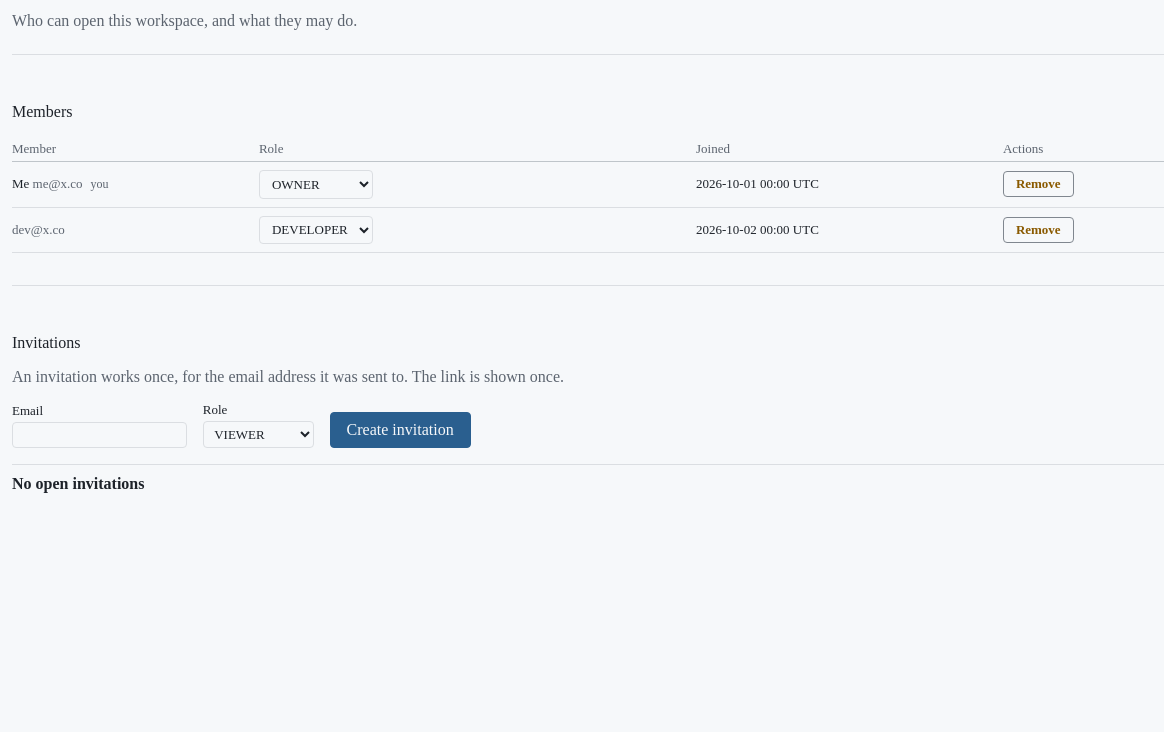
Test: Members › shows API validation per field
Type "a@b.co" into the field labelled "Email" at (99, 435), box [12,422,187,448]
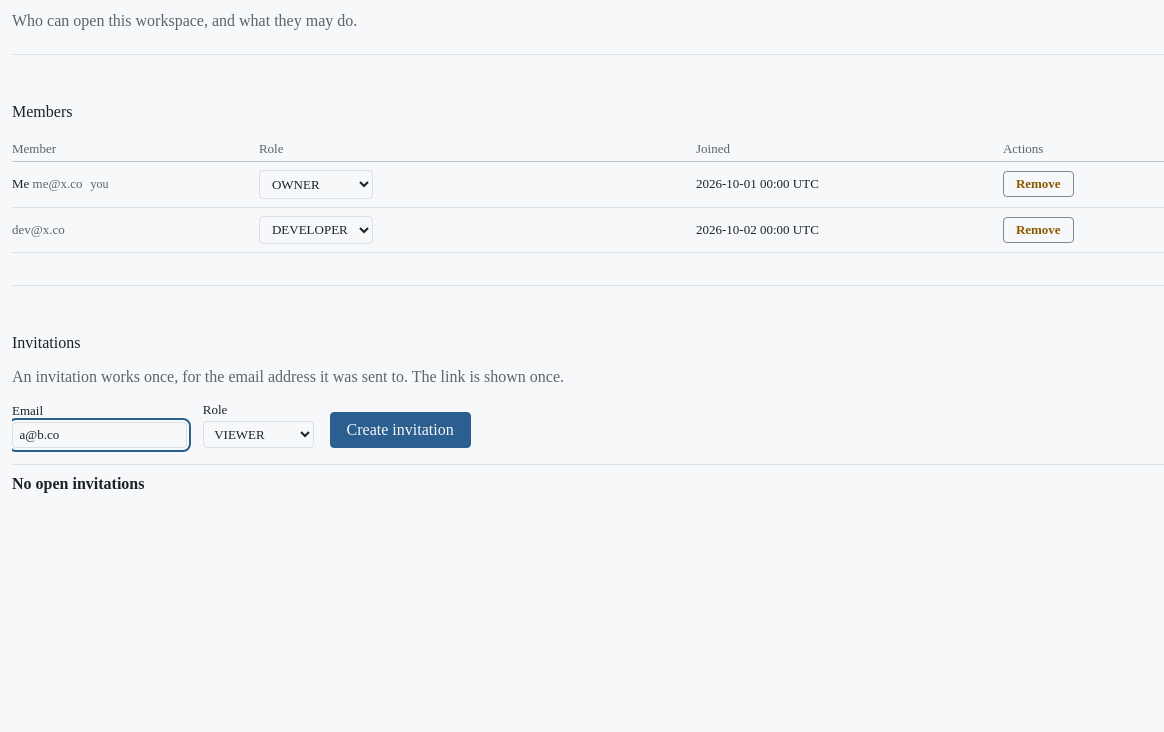
Click the button "Create invitation" at (400, 430), box [330,412,471,448]
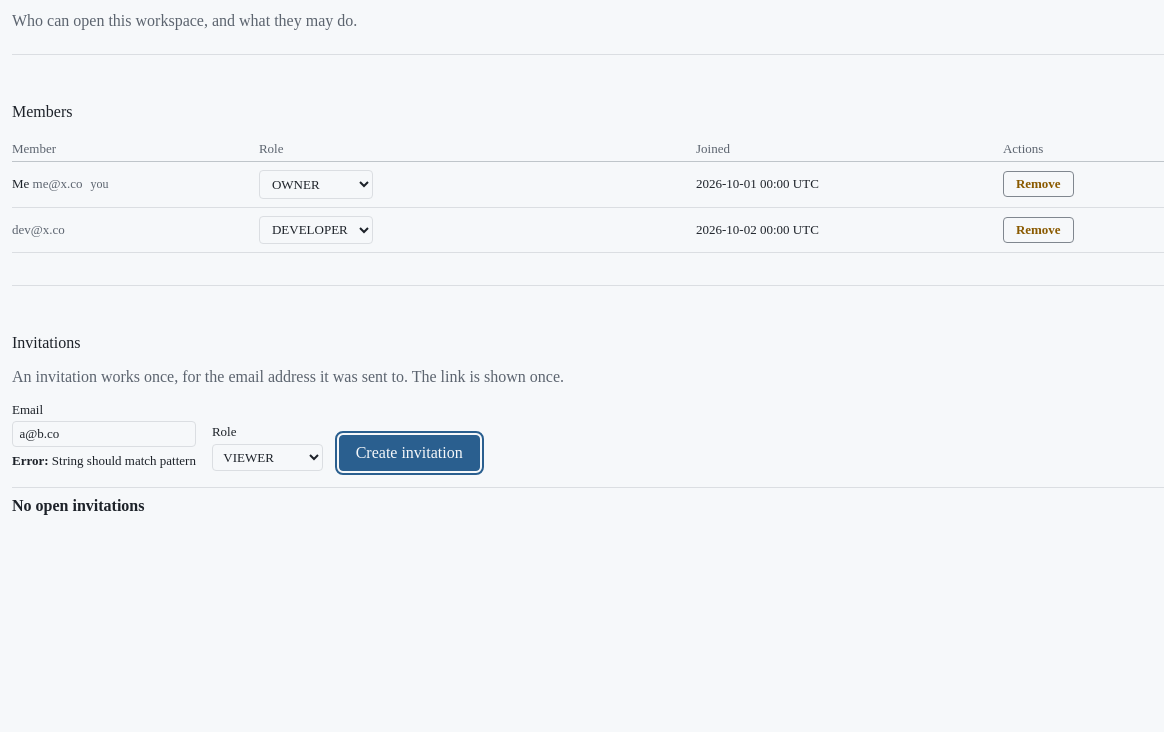
Check: the text "String should match pattern" is shown, box [52,453,196,468]
